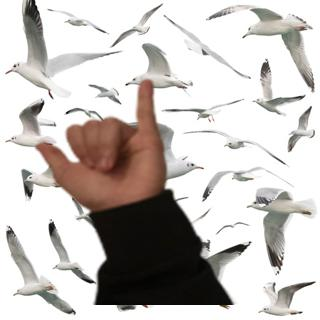HAVE: (36, 74, 174, 215)
